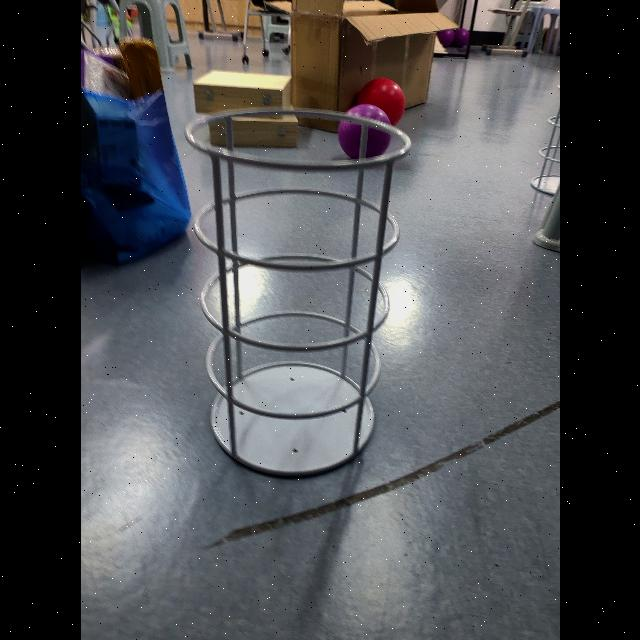P: (335, 103, 389, 161), (449, 28, 468, 50), (435, 25, 453, 45)
R: (356, 74, 404, 126)
S: (178, 104, 414, 482)
